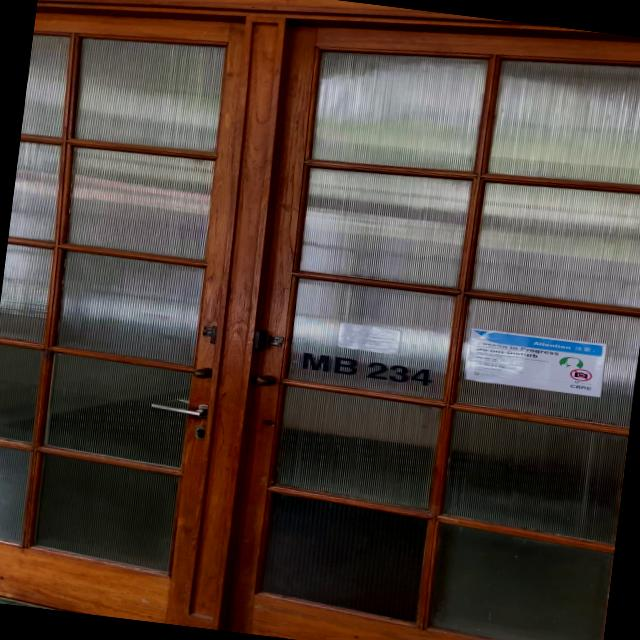room234Window: (292, 346, 438, 386)
